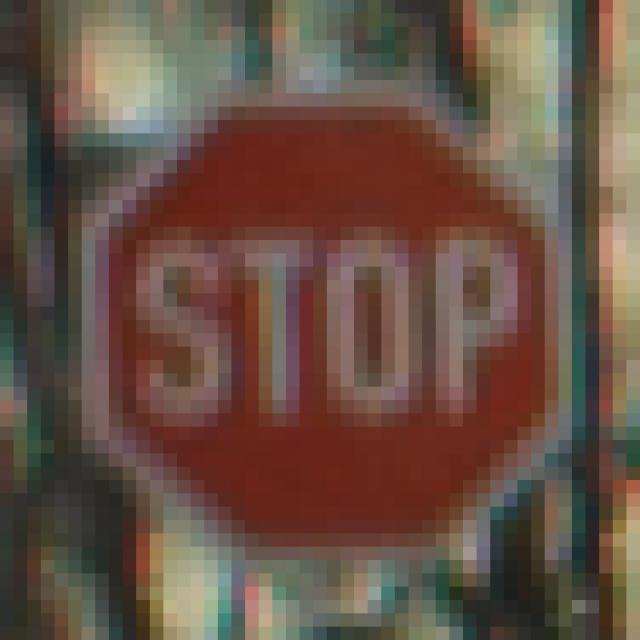STOP: (69, 81, 573, 574)
